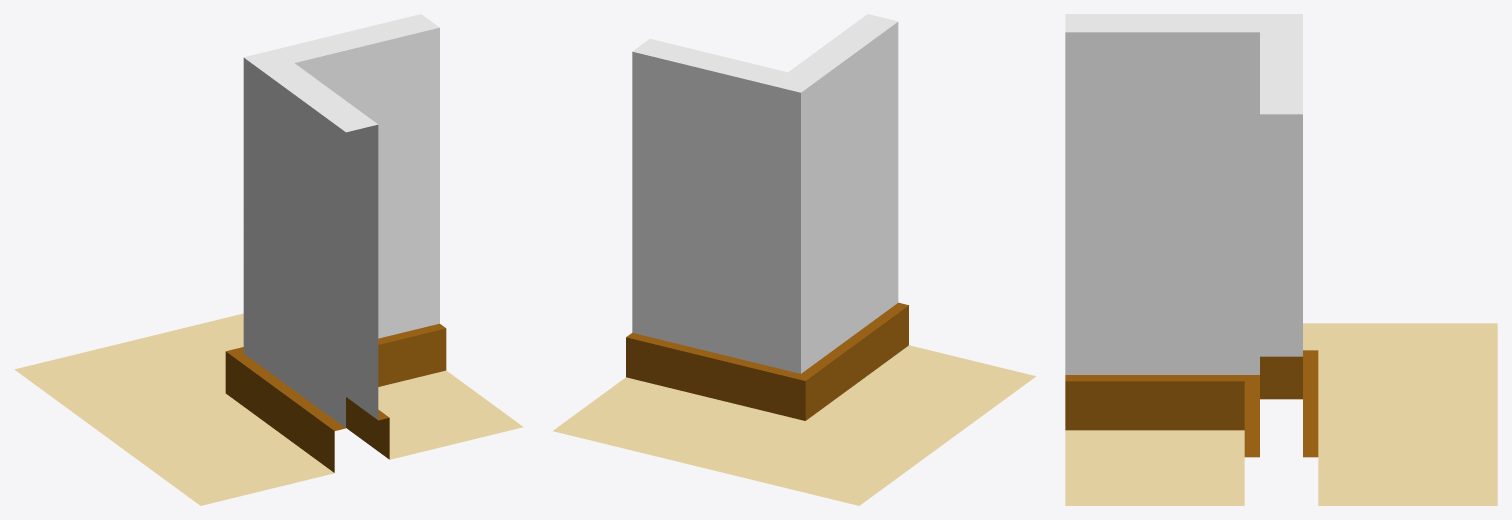
Rendered from I_Wall_L_Shape.fbx.
3 renders of one model, left to right at view 1: azimuth 30°, elevation 25°; view 2: azimuth 150°, elevation 25°; view 3: azimuth 270°, elevation 25°, orthographic. The views are drawn at different scales.
Visible parts, largest first — view 1: I_Wall_L_Shape; view 2: I_Wall_L_Shape; view 3: I_Wall_L_Shape.
Part boxes in pixels (x1=…): I_Wall_L_Shape: x1=14, y1=14, x2=523, y2=505; I_Wall_L_Shape: x1=553, y1=14, x2=1035, y2=505; I_Wall_L_Shape: x1=1065, y1=14, x2=1497, y2=505.
Bounding box in the file's own units: 200 × 200 × 200.
Materials: 1 (1 with a texture image).
